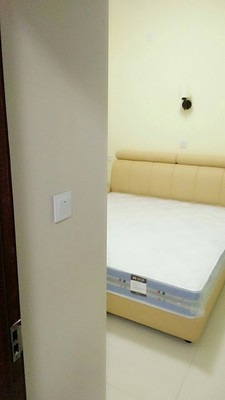switch: (46, 194, 82, 221)
